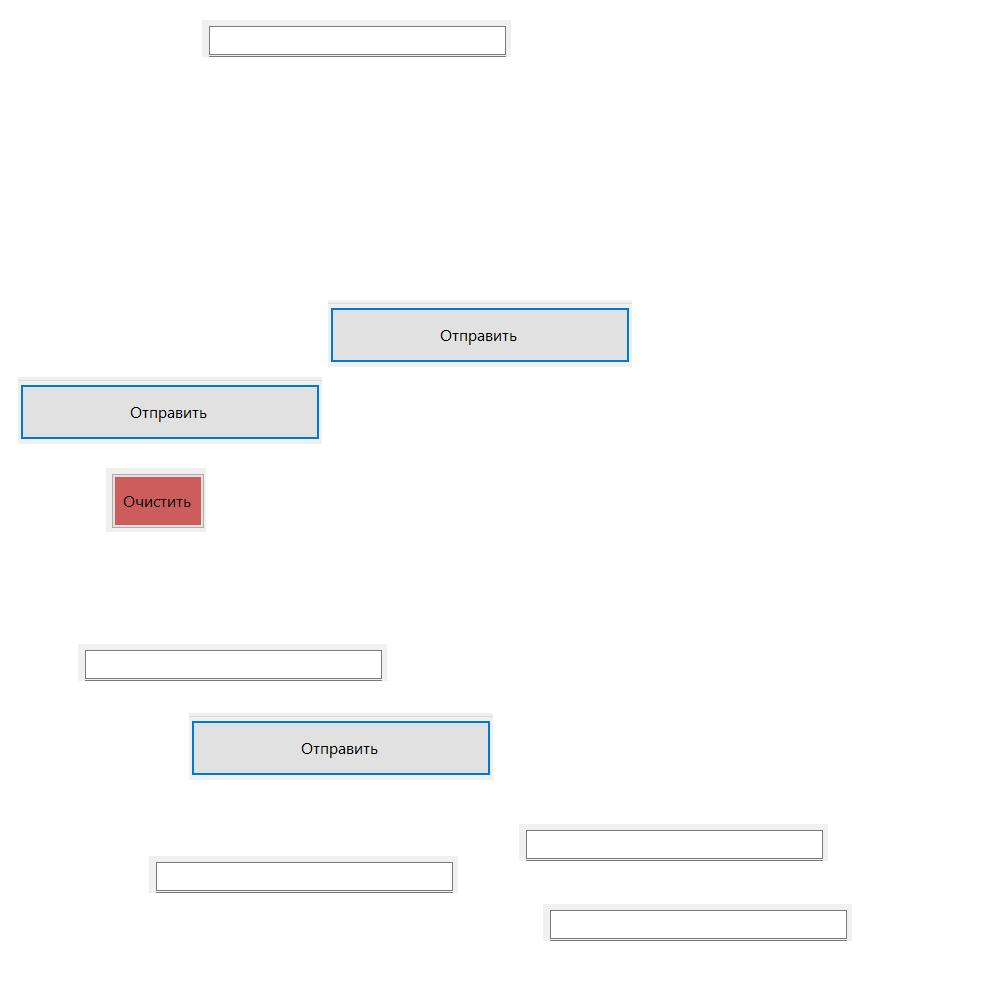Button: (18, 377, 322, 444), (189, 713, 493, 780), (328, 300, 632, 367), (106, 468, 206, 532)
EditText-: (543, 904, 852, 941), (519, 824, 828, 861), (202, 20, 511, 57), (149, 856, 458, 893), (78, 644, 387, 681)
